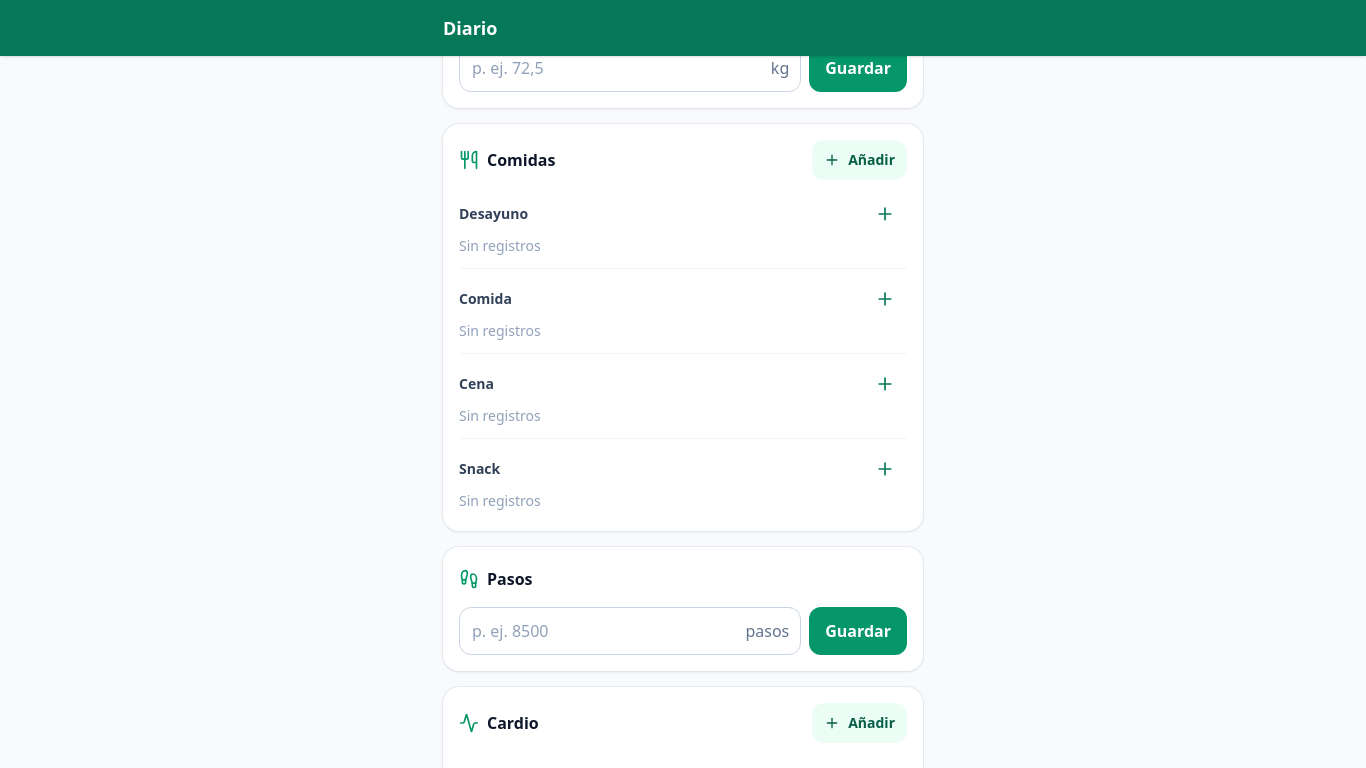
Test case: <TodayScreen> meals › adds a meal of the chosen type to the day being viewed
This screenshot has width=1366, height=768.
(page scrolled)
Click the button named "Añadir a cena".
click(885, 384)  # box [863,362,907,406]
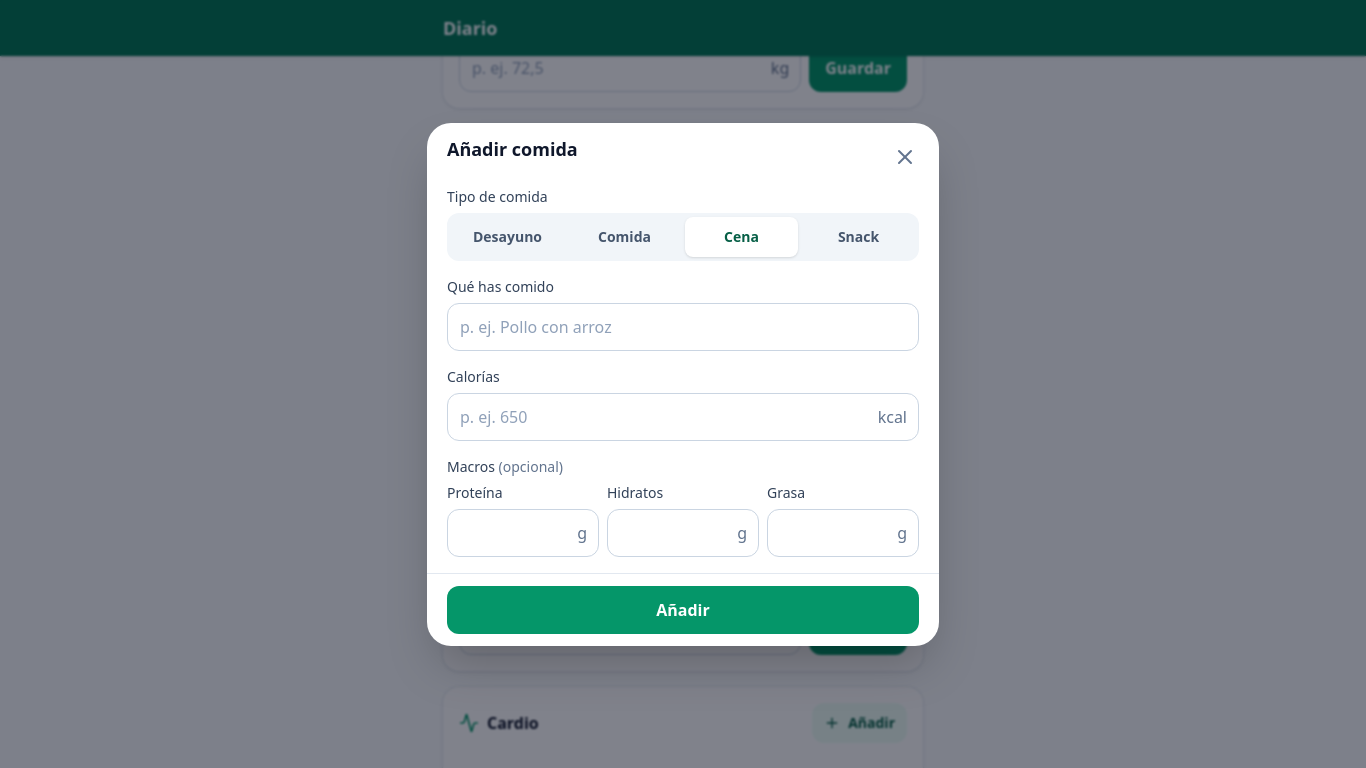
Click the button "Añadir".
click(683, 610)  # box [447,586,919,634]
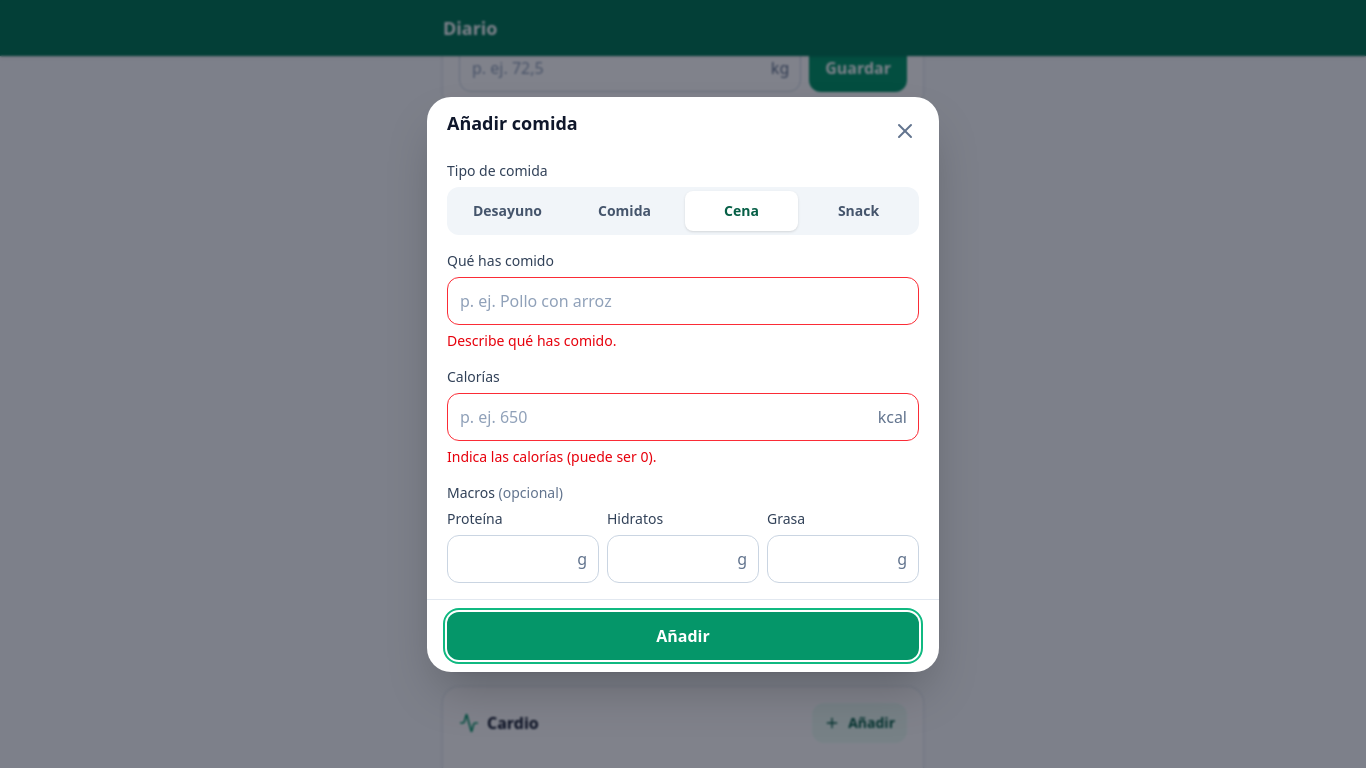
Expected: the text "Describe qué has comido." is shown, [447,330,616,350]
Expected: the text "Indica las calorías (puede ser 0)." is shown, [447,446,656,466]
Type "  Tortilla de patatas " into the field labelled "Qué has comido".
click(683, 300); type("  Tortilla de patatas ")  # box [447,276,919,324]
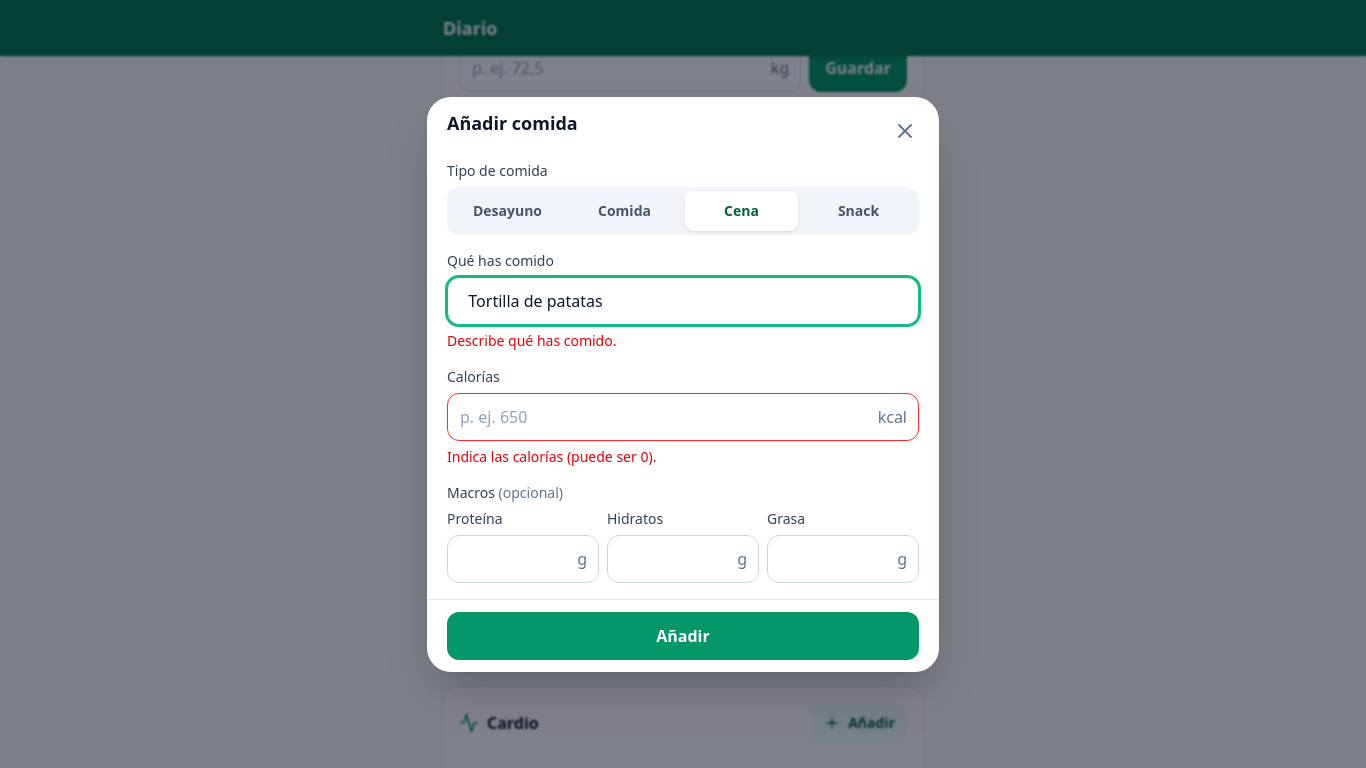
Type "650" into the field labelled "Calorías".
click(683, 416); type("650")  # box [447,392,919,440]
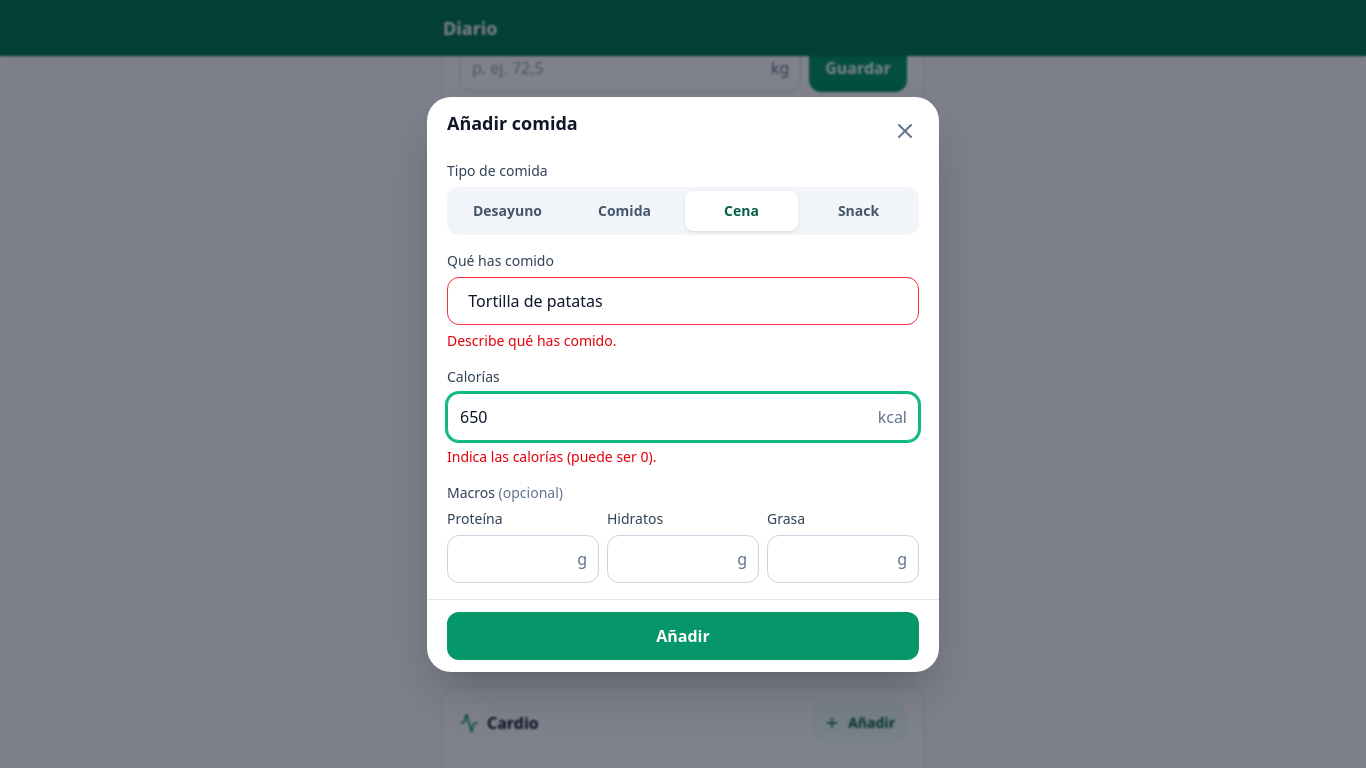
Type "20,5" into the field labelled "Proteína".
click(523, 558); type("20,5")  # box [447,534,599,582]
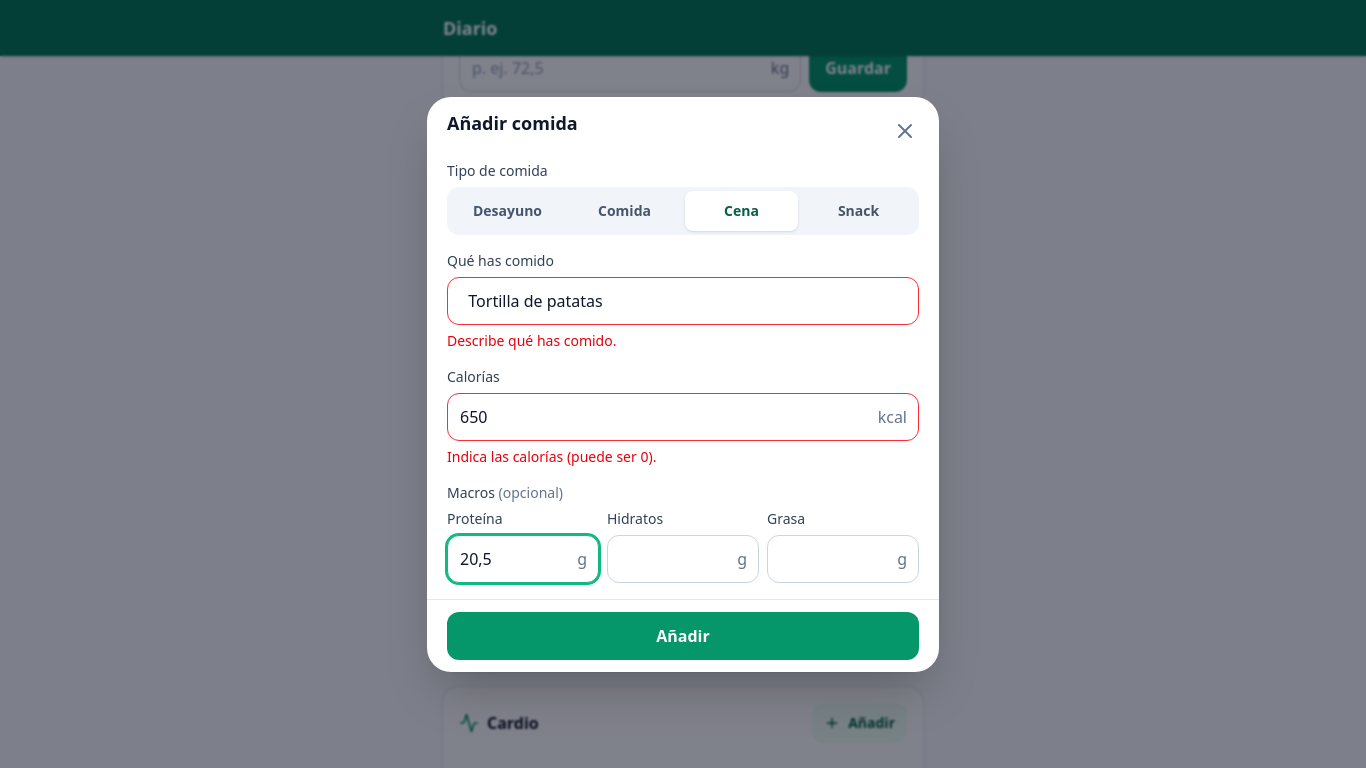
Click the button "Añadir".
click(683, 636)  # box [447,612,919,660]
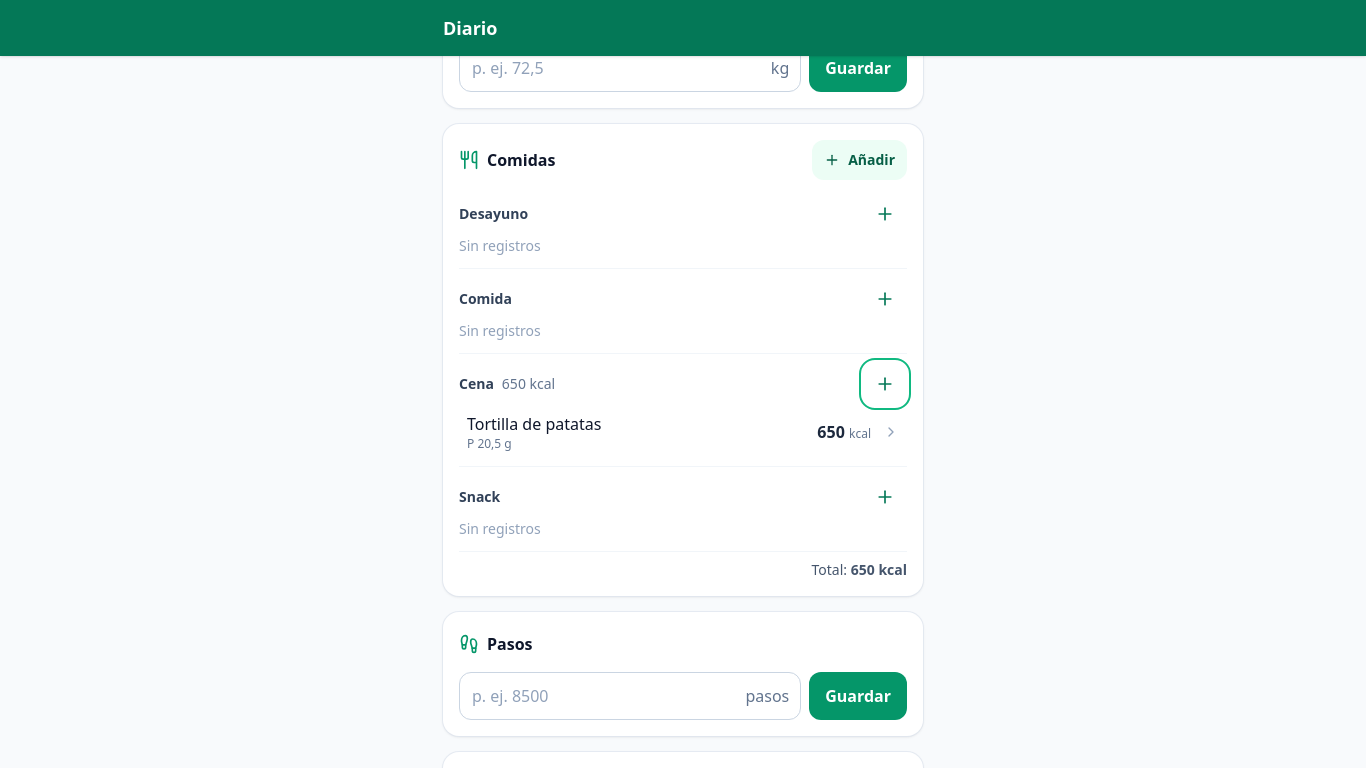
Expected: the dialog is gone
Expected: the text "Tortilla de patatas" is shown, [467,413,601,435]
